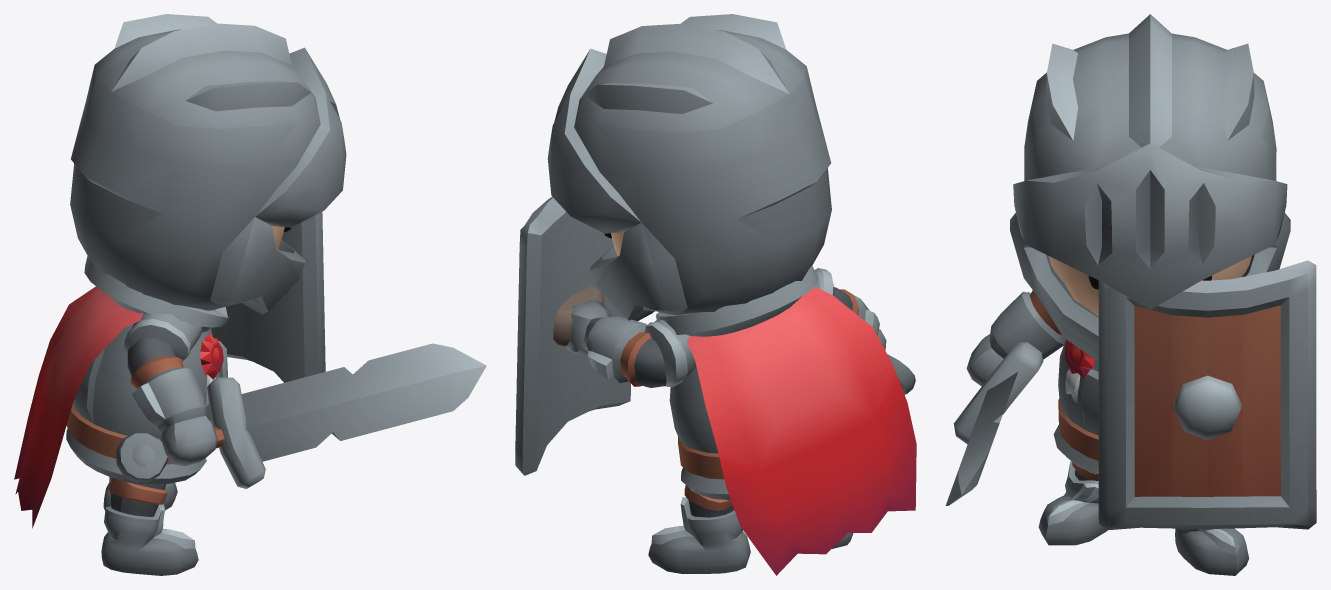
The model's file is shieldbearer.glb.
3 views of the same model, side by side, from view 1: azimuth 30°, elevation 25°; view 2: azimuth 150°, elevation 25°; view 3: azimuth 270°, elevation 25° (orthographic). The views are drawn at different scales.
Visible parts, largest first — view 1: shieldbearer; view 2: shieldbearer; view 3: shieldbearer.
Boxes of the visible parts, <box> form: shieldbearer: <box>14,14,486,575</box>; shieldbearer: <box>515,14,916,575</box>; shieldbearer: <box>945,14,1316,575</box>.
Size of the model in its own units: 1.98 by 2.41 by 1.5.
1 material, 1 textured.
